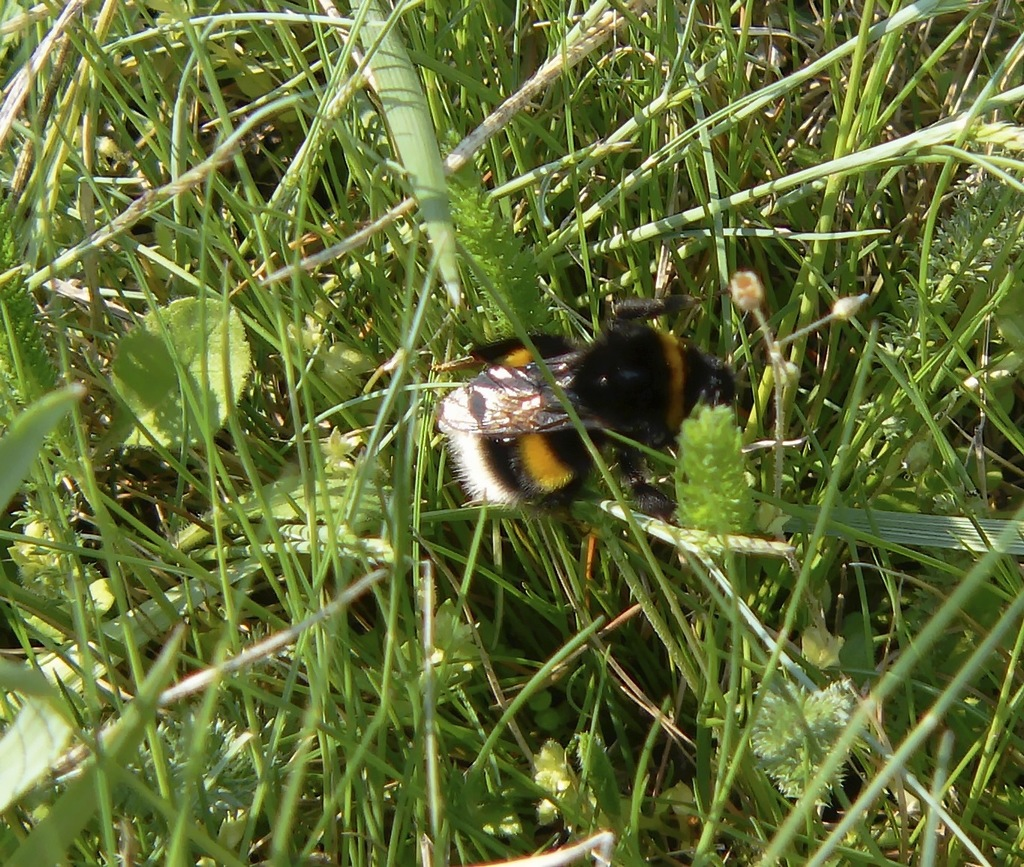bumblebee: (431, 290, 736, 519)
